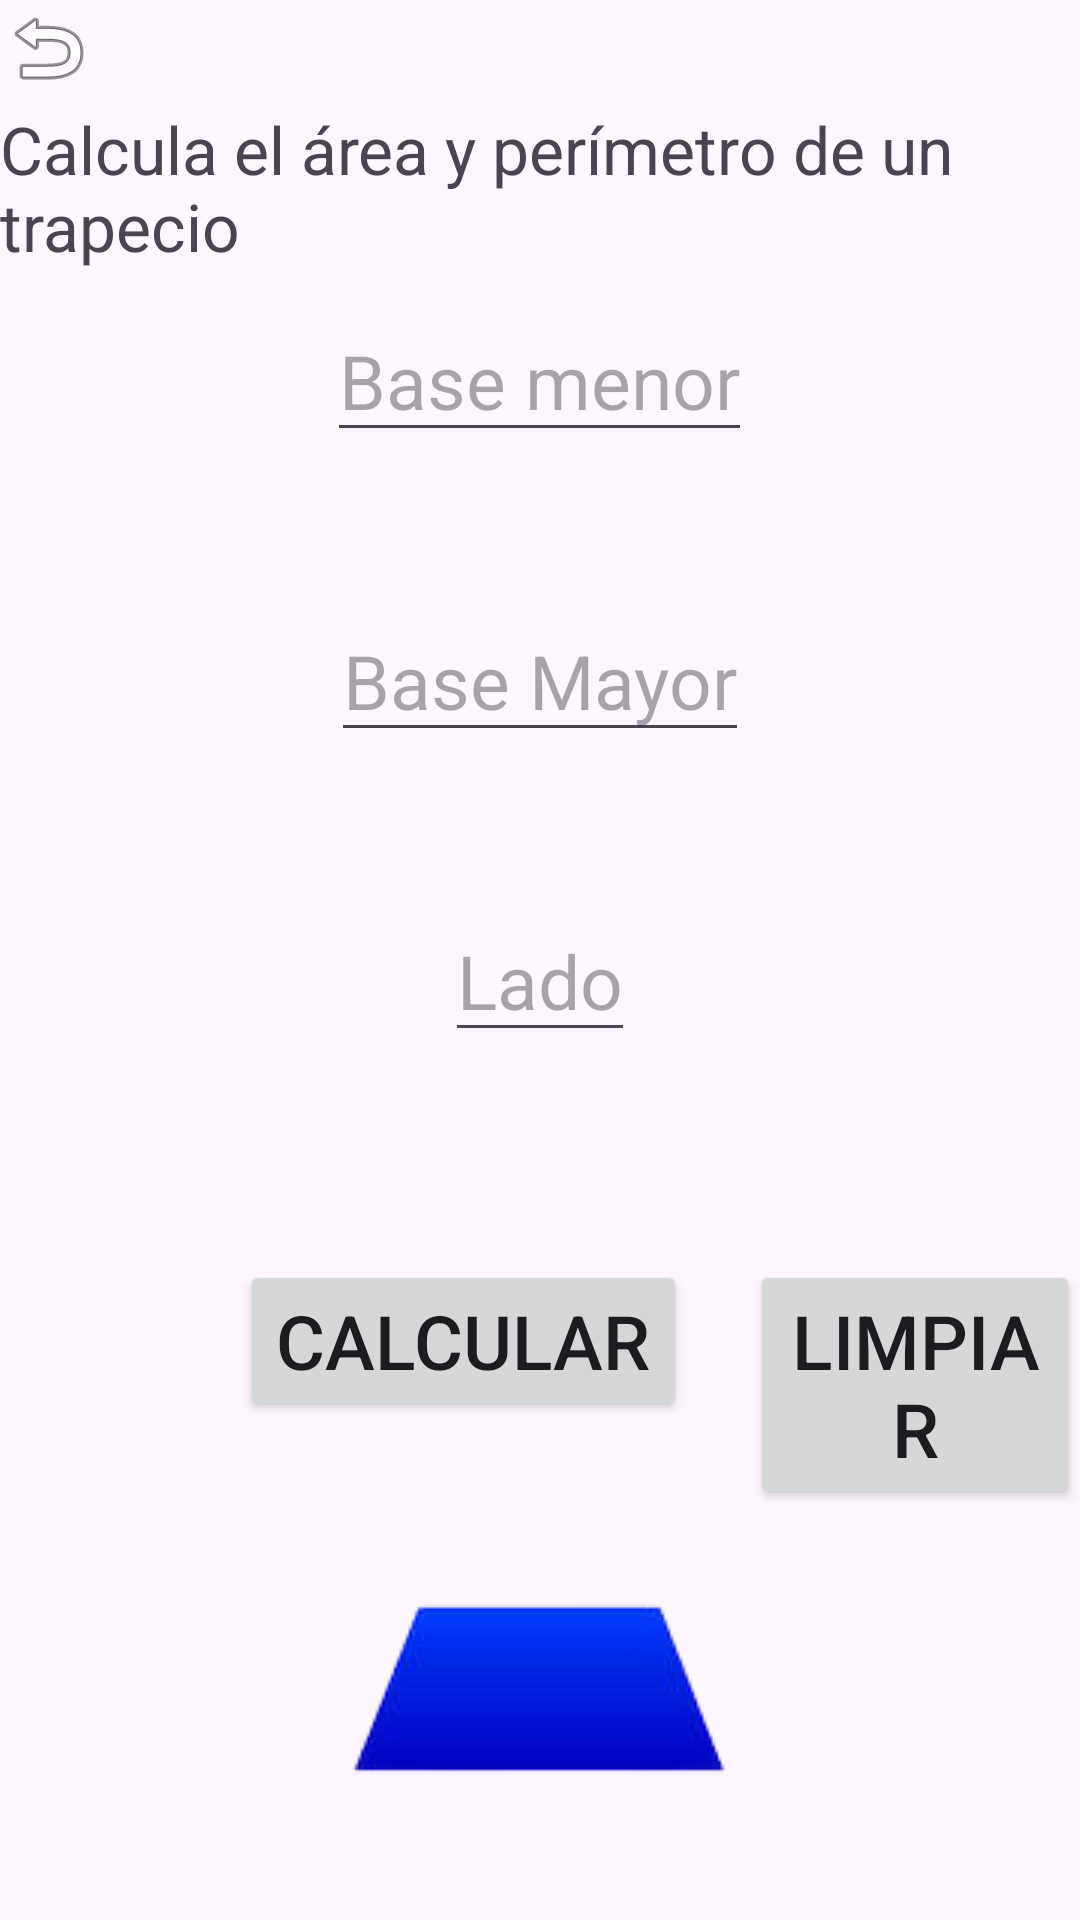

Named icons in this screenshot (1080 x 1920) and their centers, (x,y):
revert: (49,48)
